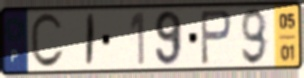1: (127, 10, 146, 69)
9: (153, 8, 185, 69), (239, 7, 270, 68)
C: (28, 11, 66, 72)
I: (83, 12, 98, 69)
P: (198, 8, 234, 67)
